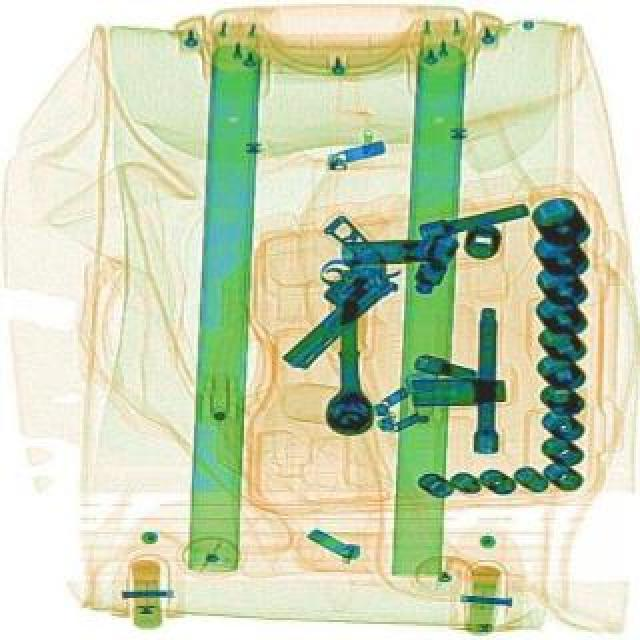gun: (232, 210, 408, 372)
